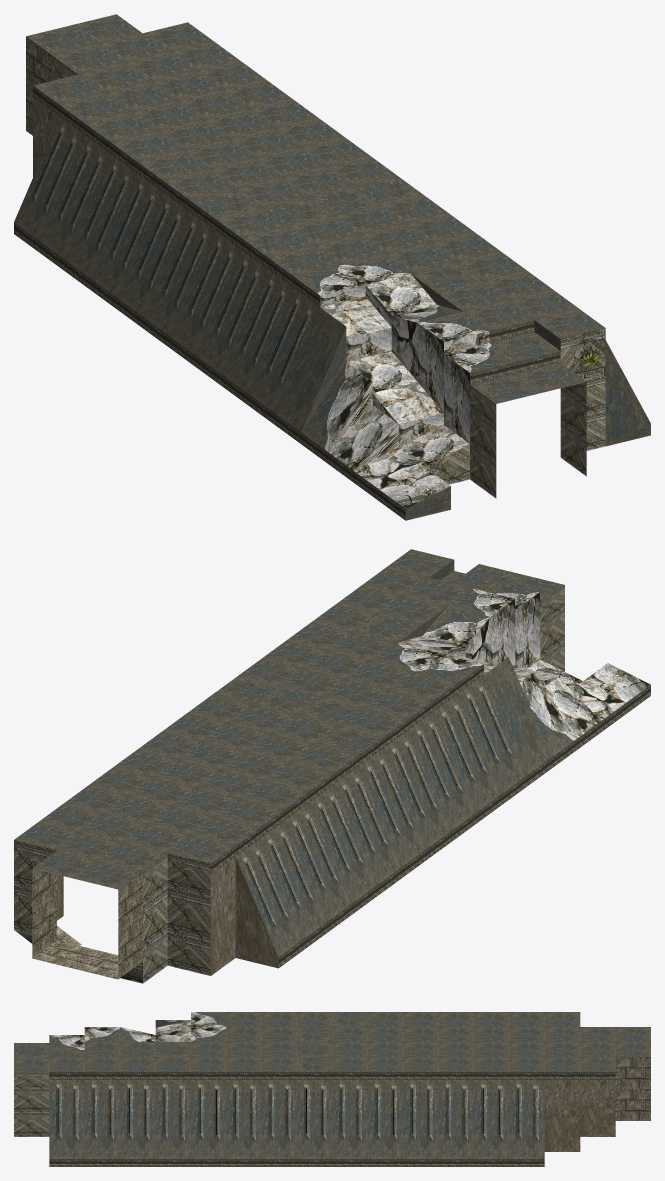
Rendered from room27.obj.
3 renders of one model, top to bottom at view 1: azimuth 30°, elevation 25°; view 2: azimuth 150°, elevation 25°; view 3: azimuth 270°, elevation 25°, orthographic. The views are drawn at different scales.
Parts seen in each view (by area): view 1: 01-Caves.027; view 2: 01-Caves.027; view 3: 01-Caves.027.
Part boxes in pixels (bbox=[...]): 01-Caves.027: bbox=[14, 14, 650, 520]; 01-Caves.027: bbox=[14, 549, 650, 983]; 01-Caves.027: bbox=[14, 1012, 650, 1166].
Size of the model in its own units: 60 by 25 by 180.
Materials: 1 (1 with a texture image).
